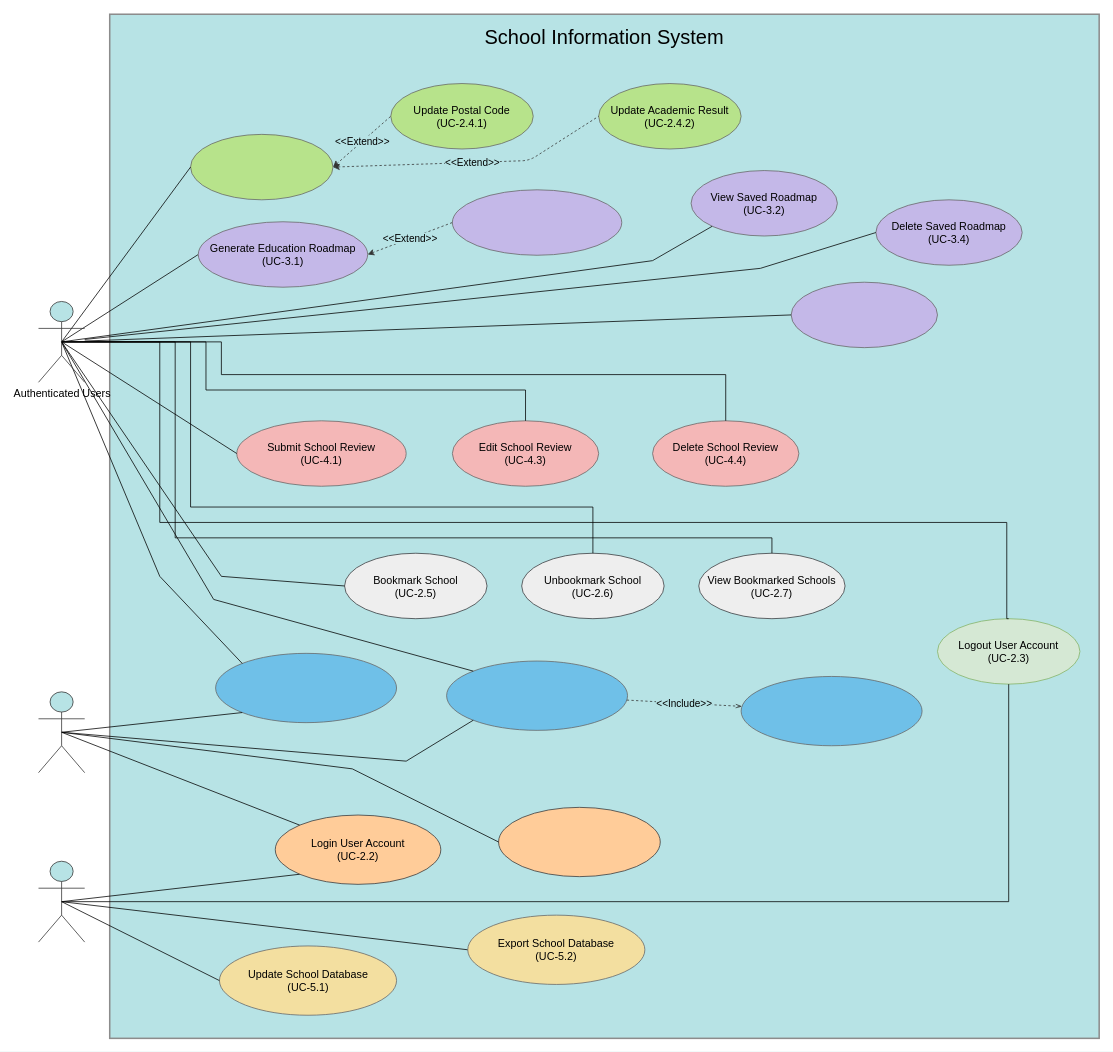
The diagram is 1113 pixels wide and 1052 high, and some of its shapes have lost their labels. The shapes that lost their labels are listed below. From the top down, each one's centre as x and y in pixels, then its label:
At point (261, 167): "View User Profile (UC-2.4)".
At point (537, 222): "Save Roadmap (UC-3.1.1)".
At point (863, 314): "Edit Saved Roadmap (UC-3.3)".
At point (306, 688): "Search and Filter School Directory (UC-1.1)".
At point (537, 695): "View School Profile (UC-1.2)".
At point (831, 711): "View School Reviews (UC-4.2)".
At point (61, 732): "Guest Users".
At point (579, 842): "Register User Account (UC-2.1)".
At point (61, 901): "Administrator".
